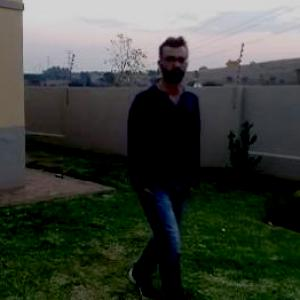follow: (90, 23, 210, 299)
